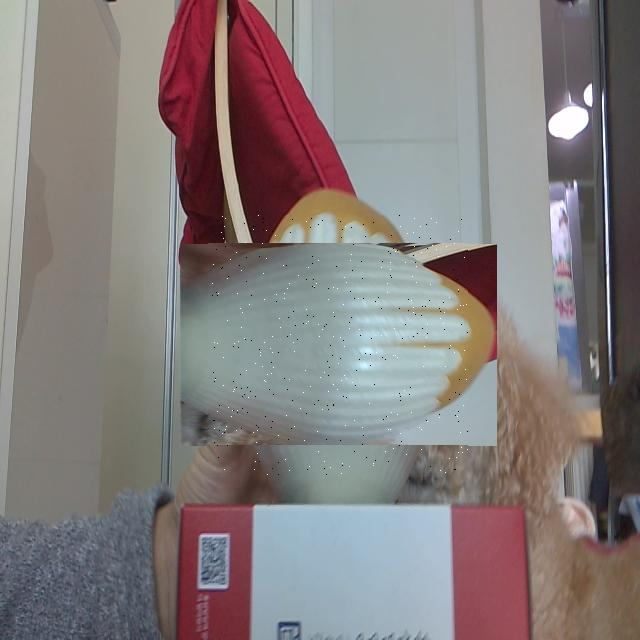pear: (208, 215, 468, 476)
